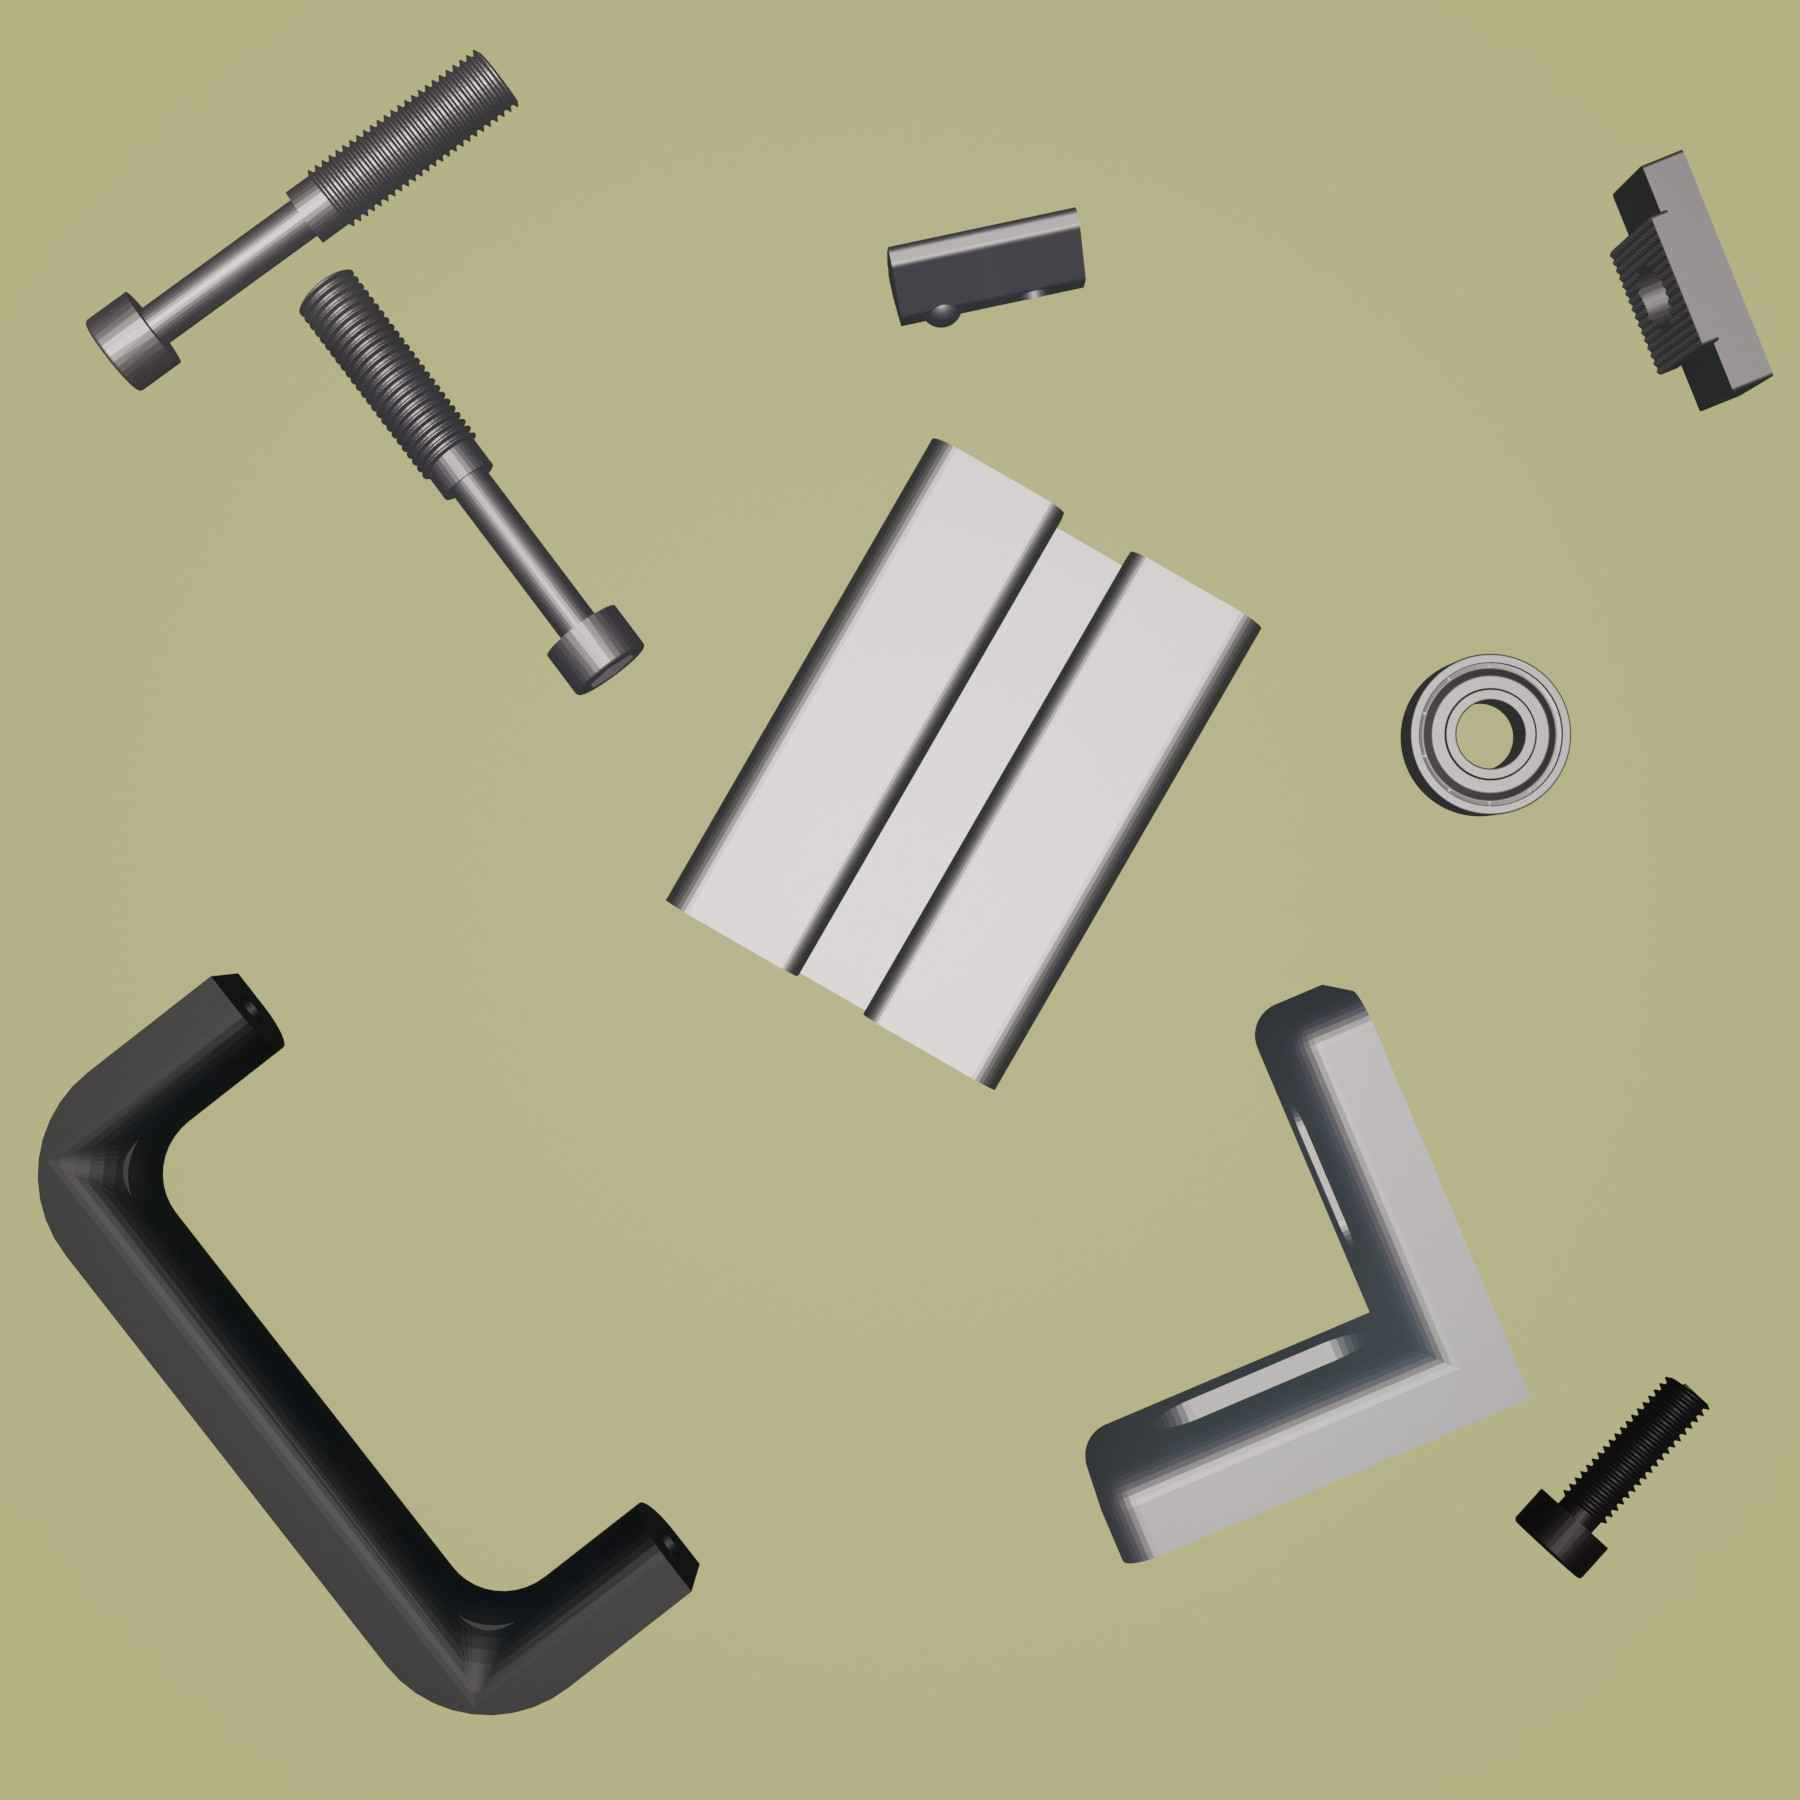Aluminium Extension: (664, 437, 1263, 1091)
Ball Bearing: (1398, 651, 1576, 819)
Multiwinkel: (1083, 982, 1533, 1566)
Pull Handle: (35, 969, 702, 1718)
Shoulder Socket Head Cap Screw: (86, 49, 521, 392), (298, 269, 645, 696)
Socket Head Cap Screw: (1515, 1376, 1711, 1581)
T Nut Square: (1605, 147, 1775, 415)
T Spring Nut: (885, 203, 1090, 331)
